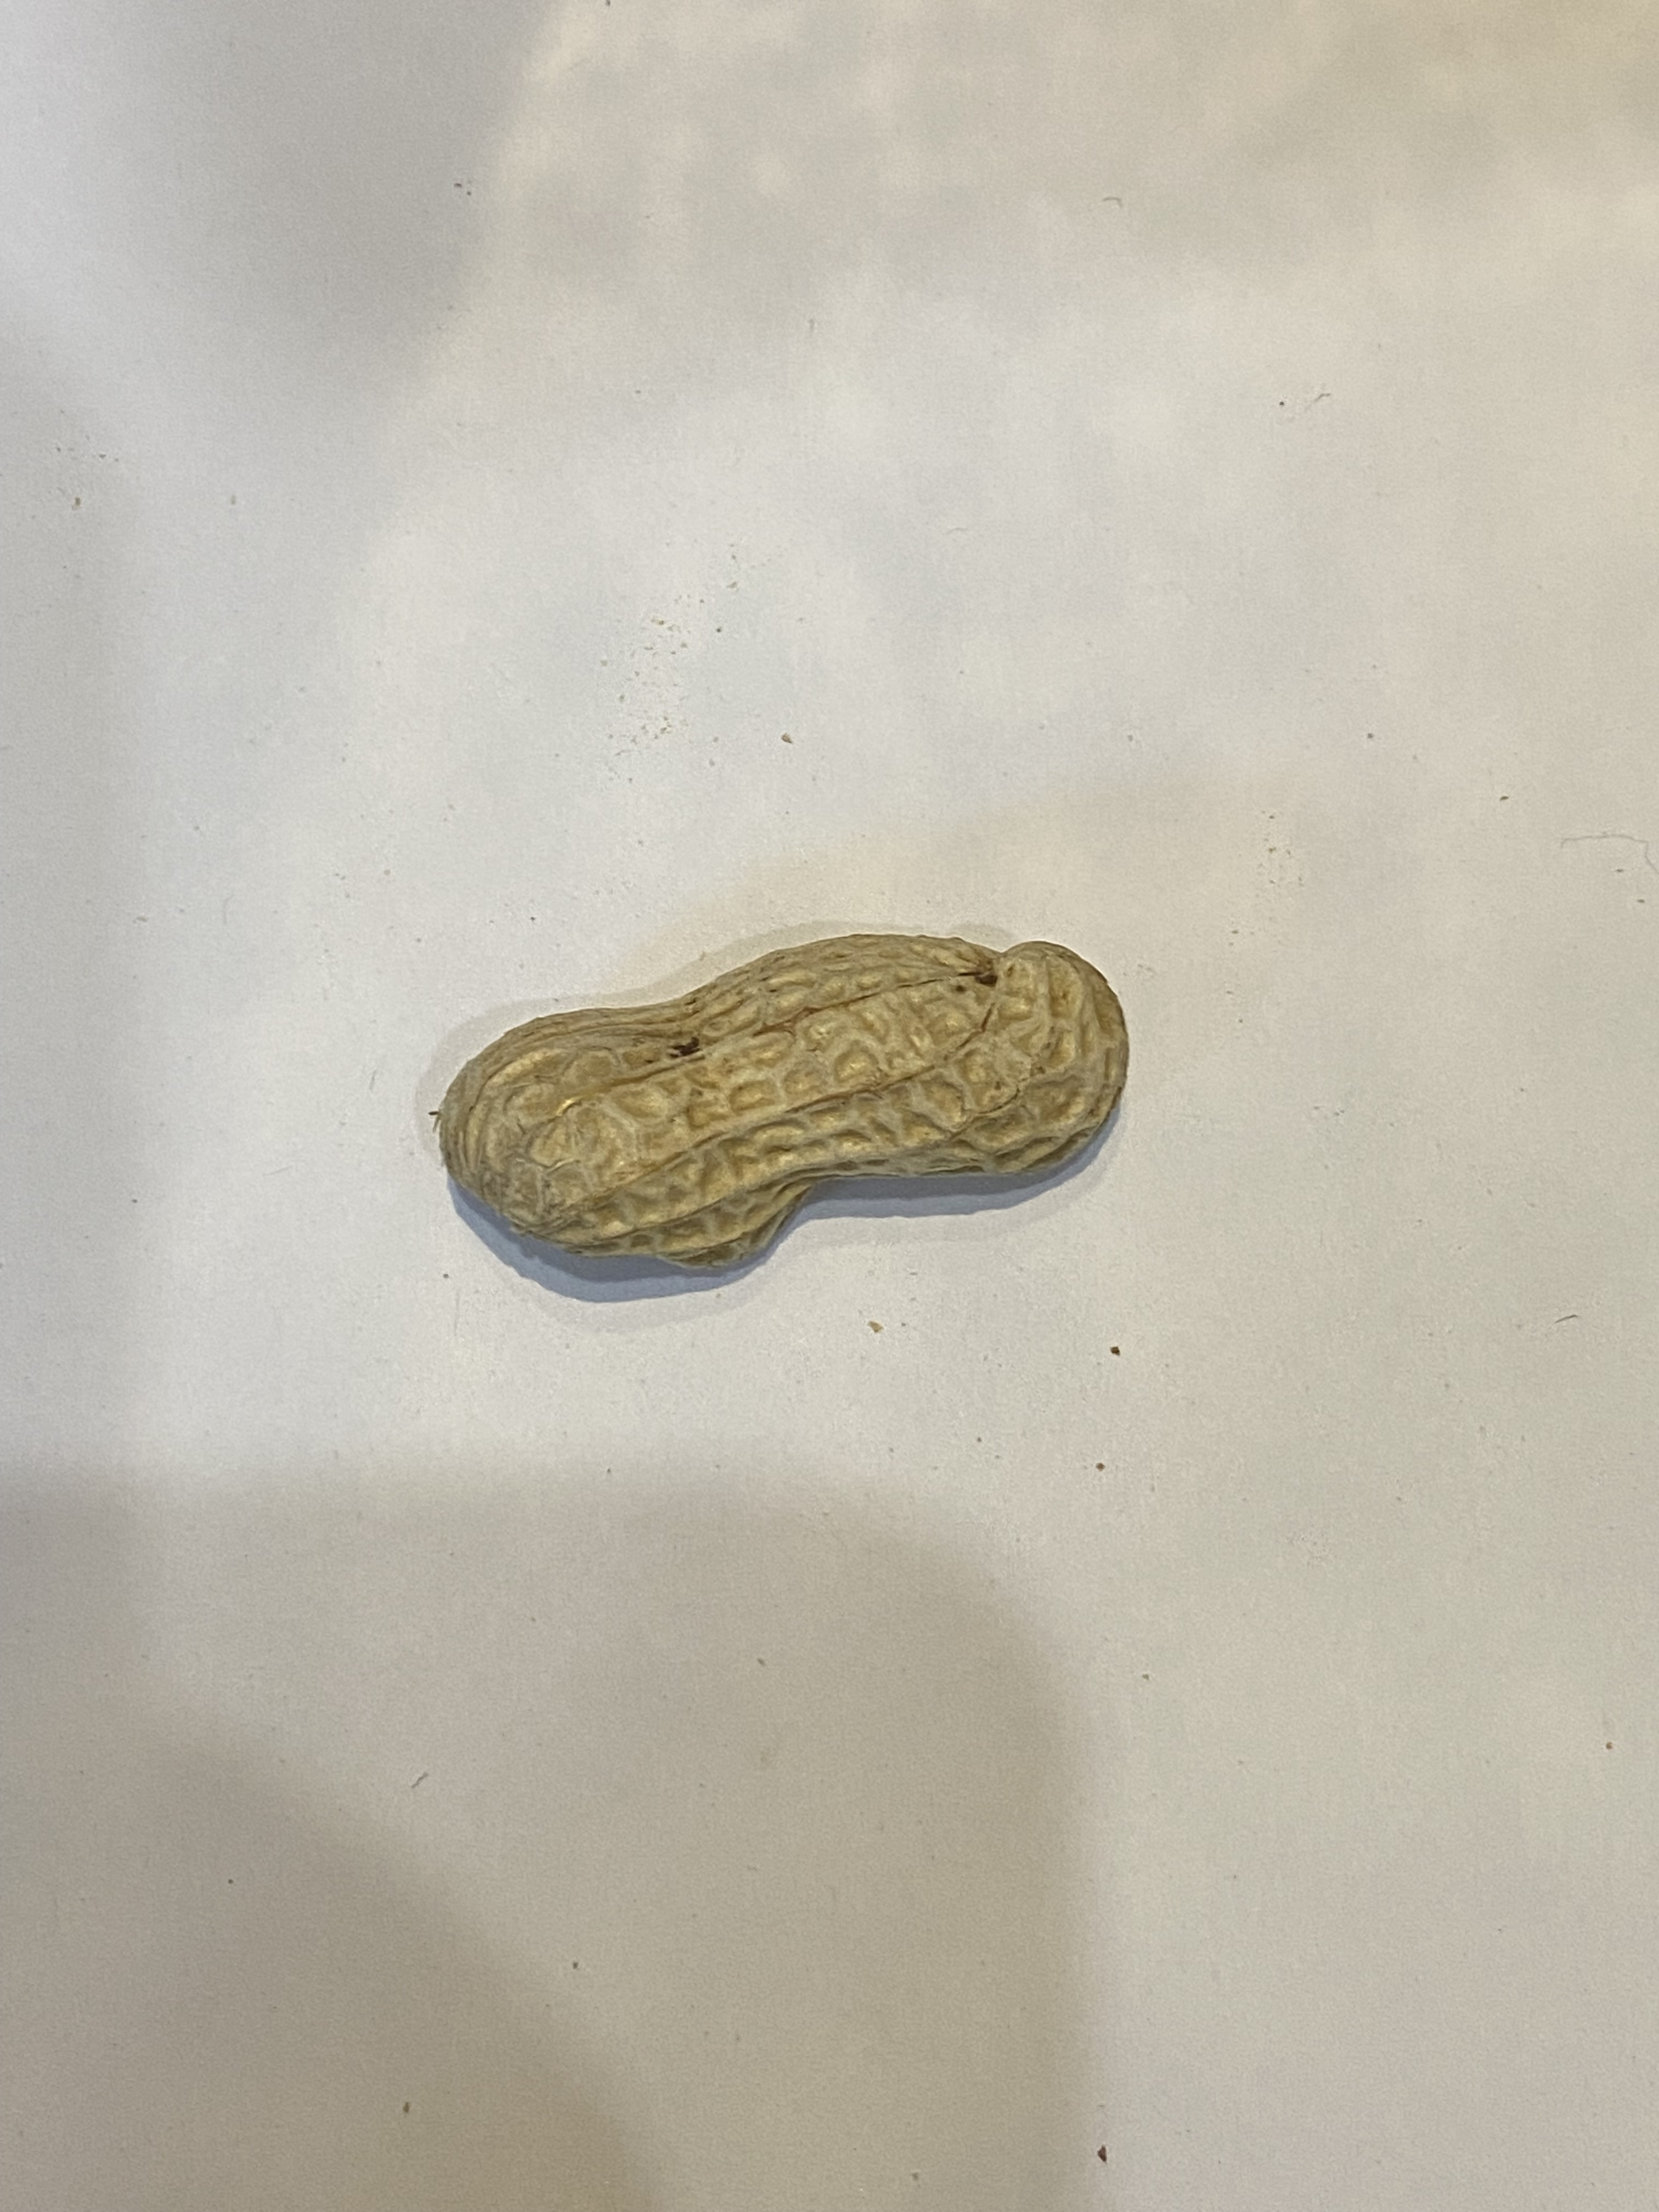kacang2: (429, 907, 1161, 1273)
